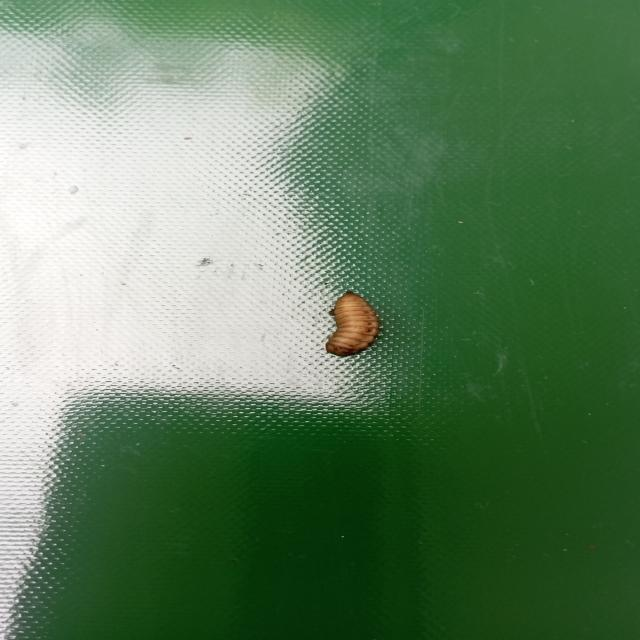Maggot: (326, 293, 381, 359)
